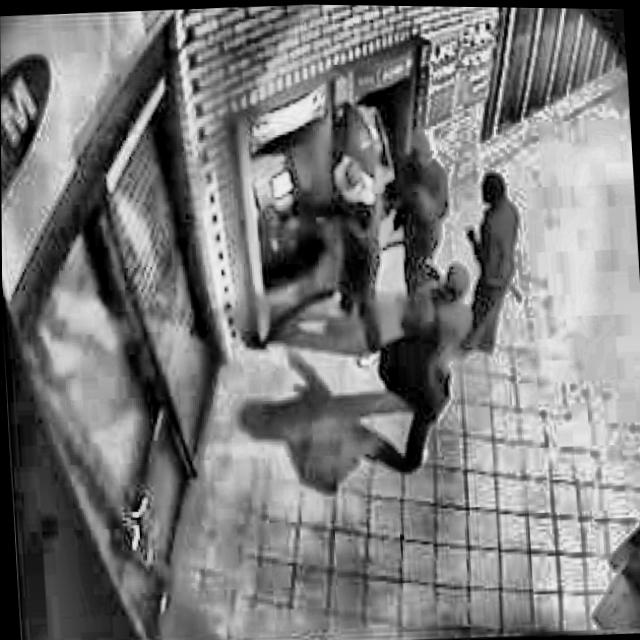burglary: (246, 80, 536, 483)
